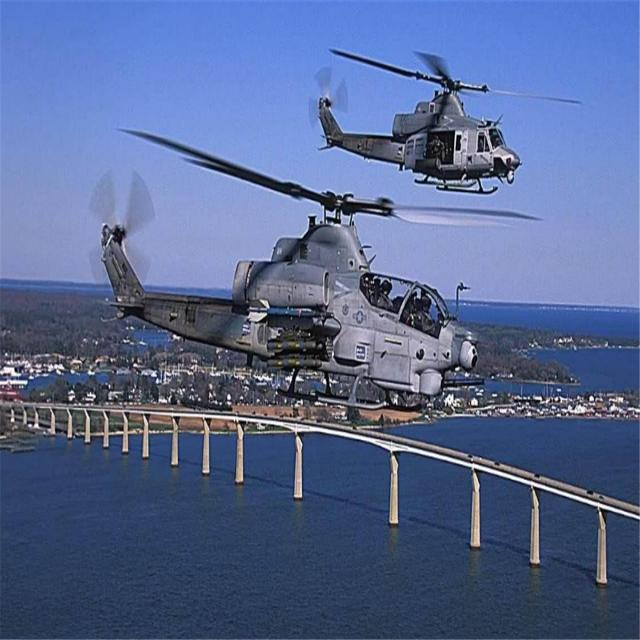MIL_HELO: (86, 124, 543, 451), (306, 22, 588, 200)
